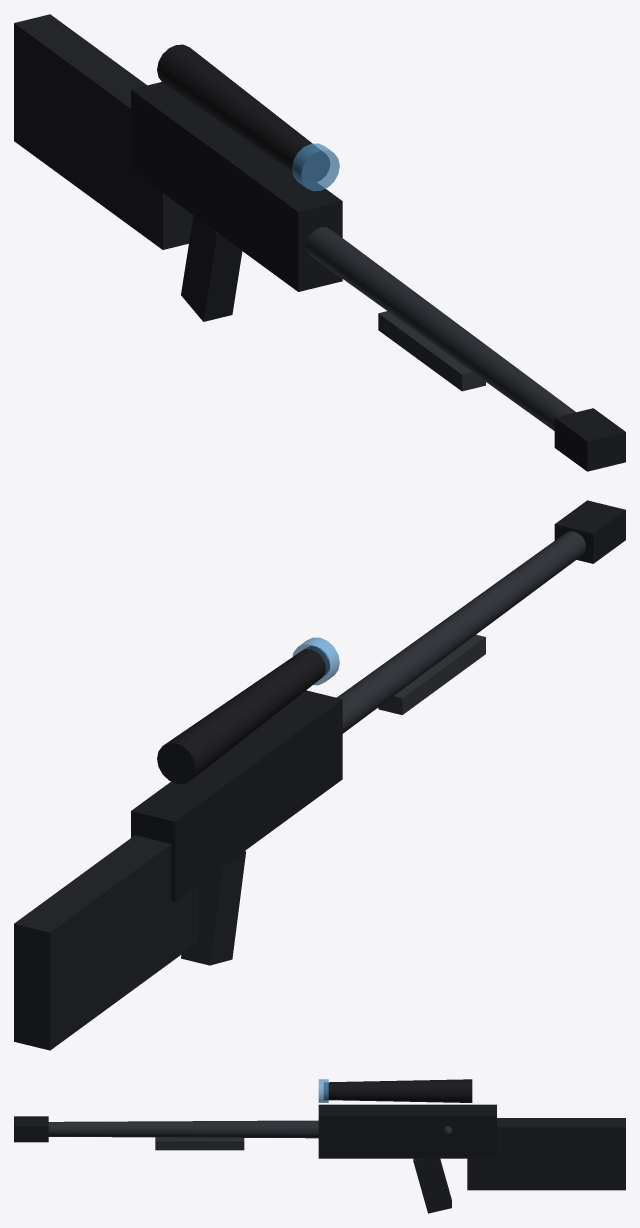
File: sniper.glb
3 views of the same model, one above another, from view 1: azimuth 30°, elevation 25°; view 2: azimuth 150°, elevation 25°; view 3: azimuth 270°, elevation 25° (orthographic). The views are drawn at different scales.
Parts seen in each view (by area): view 1: Gun_Sniper; view 2: Gun_Sniper; view 3: Gun_Sniper.
Part boxes in pixels (bbox=[...]): Gun_Sniper: bbox=[14, 14, 625, 471]; Gun_Sniper: bbox=[14, 500, 625, 1050]; Gun_Sniper: bbox=[14, 1079, 625, 1213].
Bounding box in the file's own units: 0.0775 × 0.2883 × 1.23.
